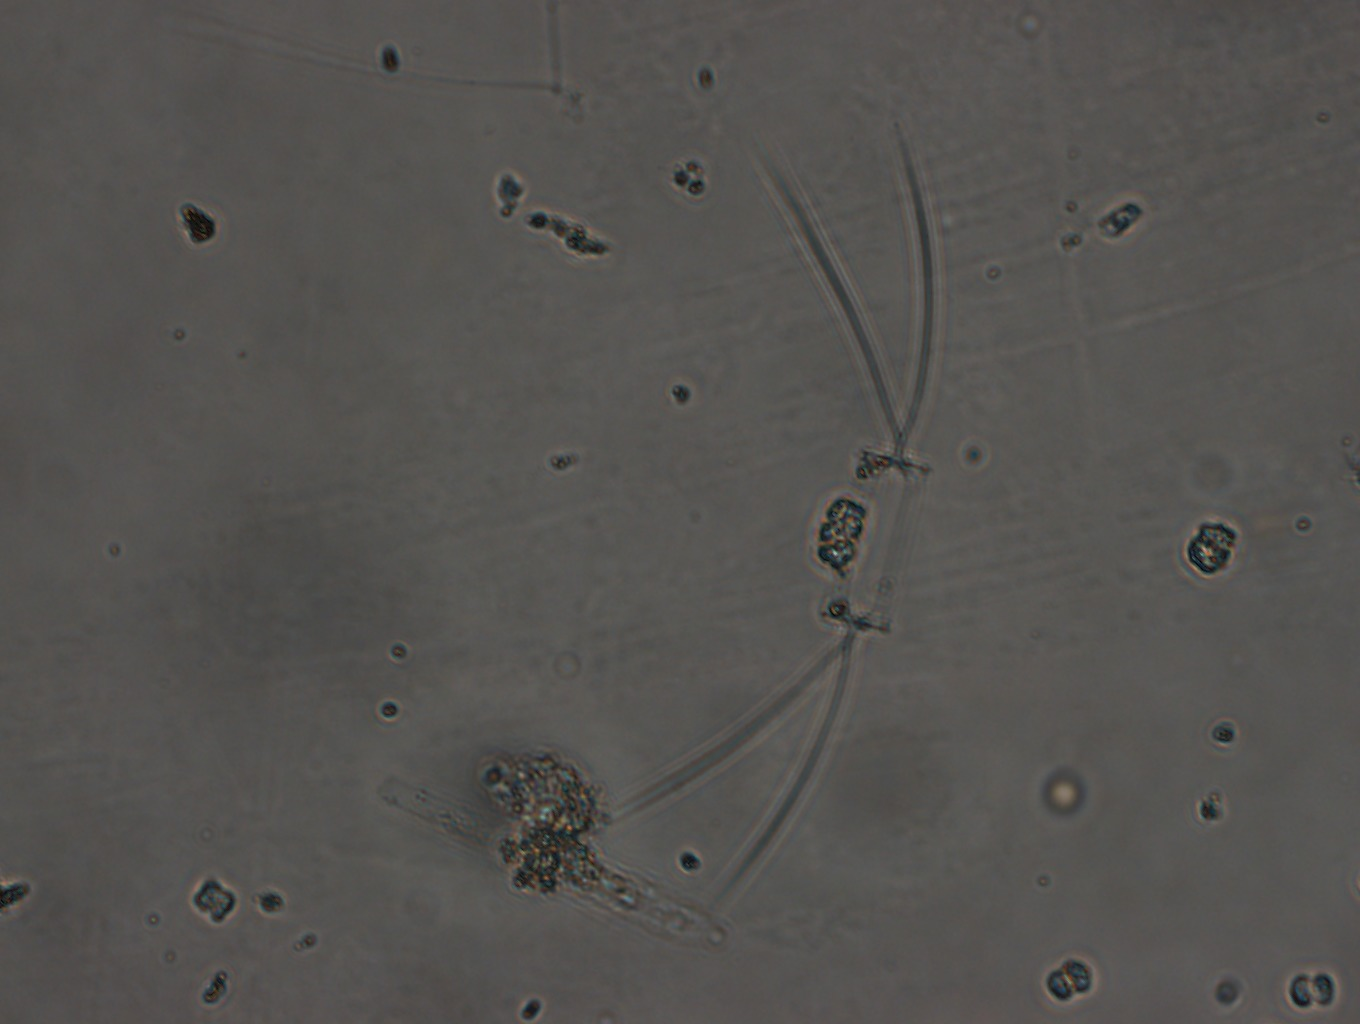chaetoceros: (573, 106, 937, 904)
